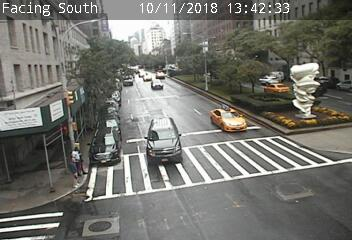car: (146, 118, 182, 165), (90, 127, 120, 166), (210, 108, 247, 133), (263, 84, 289, 94), (150, 79, 164, 91), (257, 77, 278, 85)
